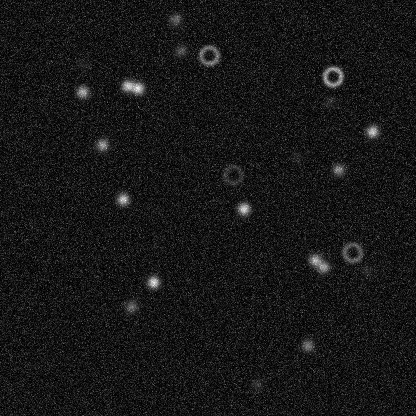Ring: (196, 43, 220, 67), (340, 240, 364, 264), (320, 64, 344, 88), (221, 162, 245, 186)
Spot: (74, 56, 90, 72), (145, 274, 161, 290), (74, 83, 90, 99), (321, 93, 337, 109), (119, 77, 135, 93), (306, 252, 322, 268), (299, 337, 315, 353), (287, 148, 303, 164), (172, 42, 188, 58), (235, 200, 251, 216), (364, 123, 380, 139), (358, 262, 374, 278), (249, 376, 265, 392), (167, 11, 183, 27), (330, 161, 346, 177), (114, 191, 130, 207), (315, 258, 331, 274), (123, 298, 139, 314), (129, 80, 145, 96), (94, 136, 110, 152)
